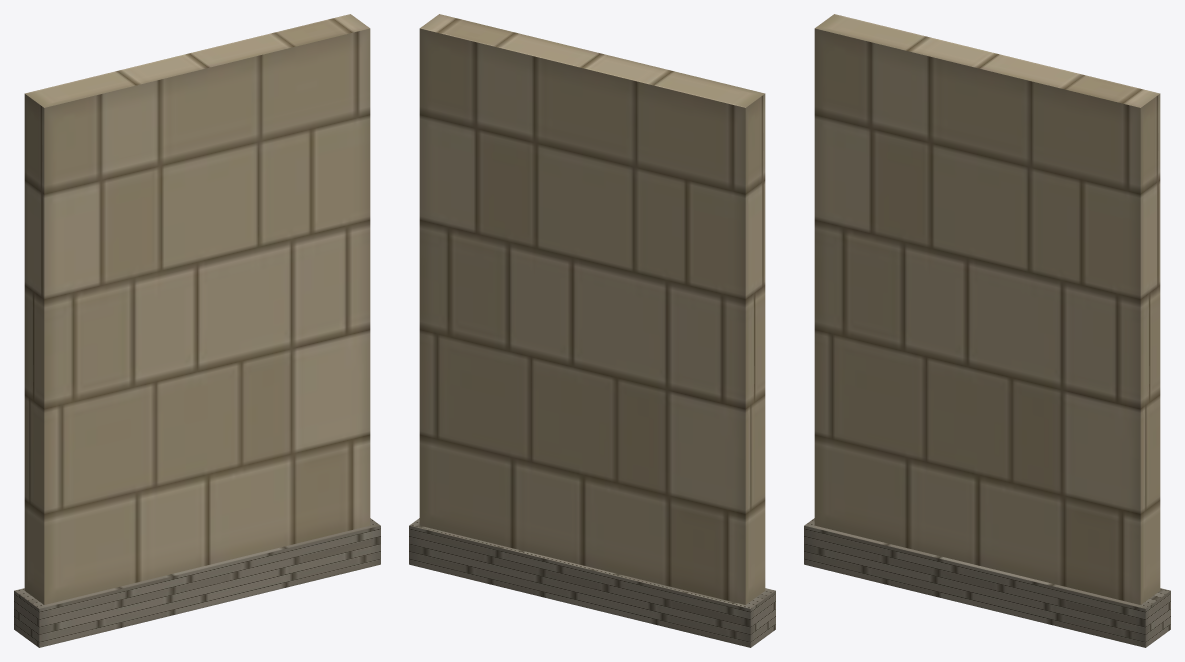
The model's file is ae_duel_stone_wall_panel_lod2.glb.
3 views of the same model, side by side, from view 1: azimuth 30°, elevation 25°; view 2: azimuth 150°, elevation 25°; view 3: azimuth 330°, elevation 25° (orthographic).
Visible parts, largest first — view 1: ae_duel_stone_wall_panel_lod2; view 2: ae_duel_stone_wall_panel_lod2; view 3: ae_duel_stone_wall_panel_lod2.
Part boxes in pixels (box(x1,y1,x2,y2)): ae_duel_stone_wall_panel_lod2: box(14, 14, 380, 647); ae_duel_stone_wall_panel_lod2: box(409, 14, 775, 647); ae_duel_stone_wall_panel_lod2: box(804, 14, 1170, 647).
Bounding box in the file's own units: 2.2 × 3.3 × 0.28.
1 material, 1 textured.
